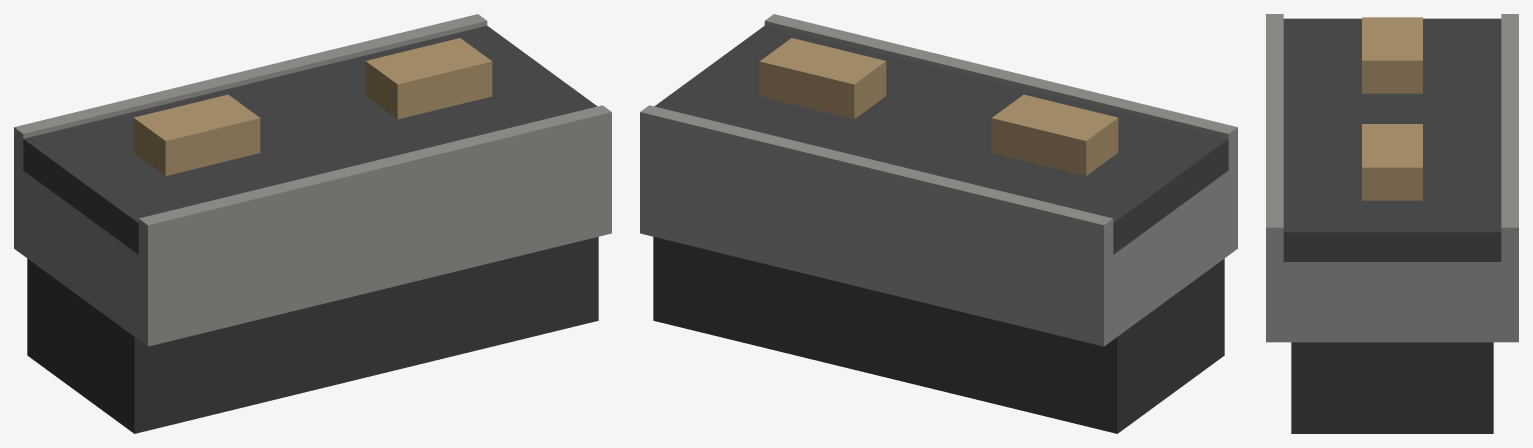
Rendered from SM_Props_Interior_Generic_Factory_Conveyor_Mid.fbx.
3 renders of one model, left to right at view 1: azimuth 30°, elevation 25°; view 2: azimuth 150°, elevation 25°; view 3: azimuth 270°, elevation 25°, orthographic. The views are drawn at different scales.
Parts seen in each view (by area): view 1: SM_Props_Interior_Generic_Factory_Conveyor_Mid, SM_Props_Interior_Generic_Factory_Conveyor_Mid_Box; view 2: SM_Props_Interior_Generic_Factory_Conveyor_Mid, SM_Props_Interior_Generic_Factory_Conveyor_Mid_Box; view 3: SM_Props_Interior_Generic_Factory_Conveyor_Mid, SM_Props_Interior_Generic_Factory_Conveyor_Mid_Box.
Part boxes in pixels (bbox=[...]): SM_Props_Interior_Generic_Factory_Conveyor_Mid: bbox=[14, 14, 611, 433]; SM_Props_Interior_Generic_Factory_Conveyor_Mid_Box: bbox=[133, 38, 492, 175]; SM_Props_Interior_Generic_Factory_Conveyor_Mid: bbox=[640, 14, 1237, 433]; SM_Props_Interior_Generic_Factory_Conveyor_Mid_Box: bbox=[759, 38, 1118, 175]; SM_Props_Interior_Generic_Factory_Conveyor_Mid: bbox=[1266, 14, 1518, 433]; SM_Props_Interior_Generic_Factory_Conveyor_Mid_Box: bbox=[1362, 17, 1422, 200].
Bounding box in the file's own units: 200 × 102 × 100.
